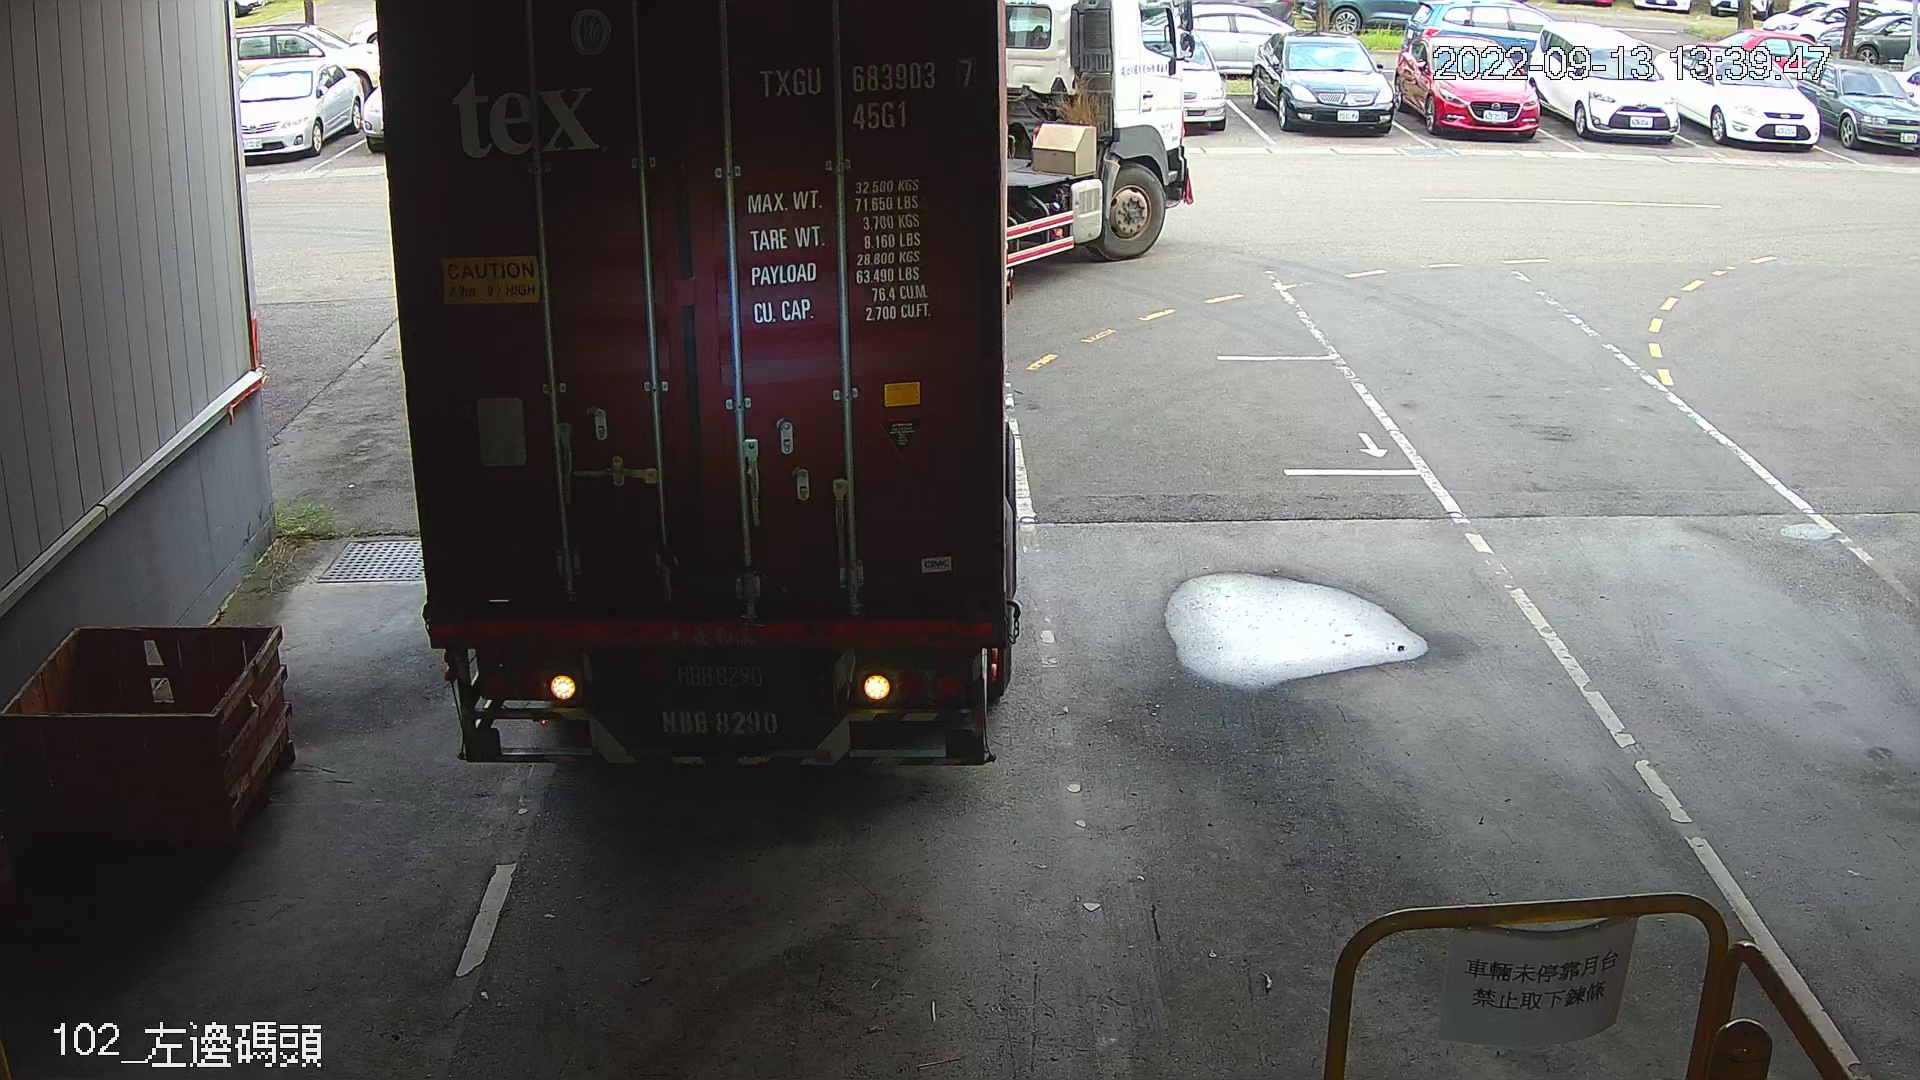container: (752, 49, 984, 136)
